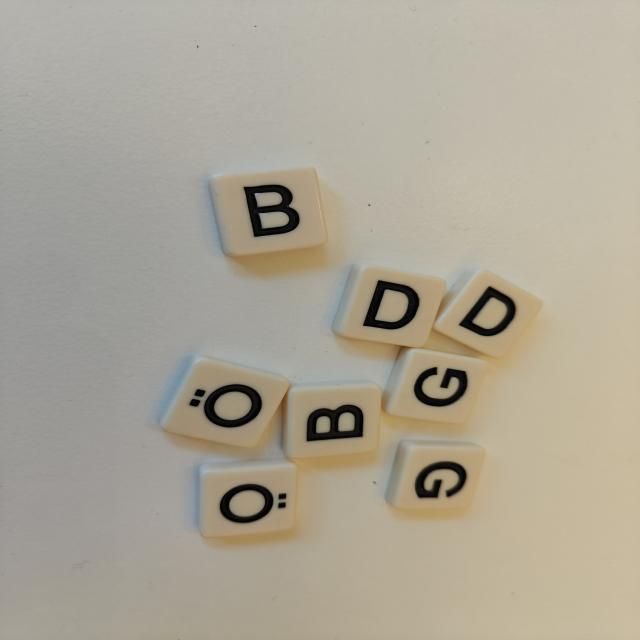b: (209, 168, 327, 257), (283, 381, 381, 459)
d: (433, 270, 541, 357), (333, 265, 446, 347)
g: (382, 347, 486, 423), (385, 439, 484, 510)
o_dot: (161, 356, 289, 447), (199, 459, 297, 537)
